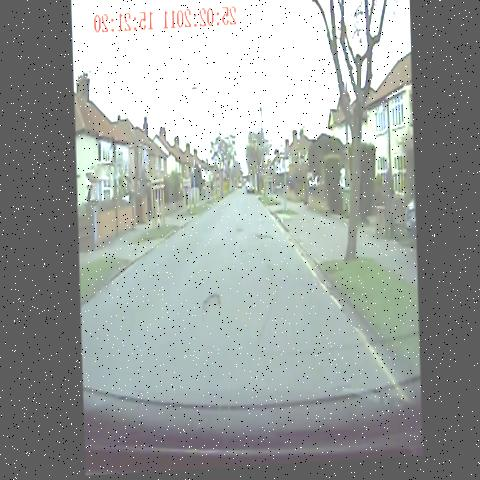pothole: (198, 289, 225, 326), (250, 228, 275, 253), (231, 221, 247, 247)
